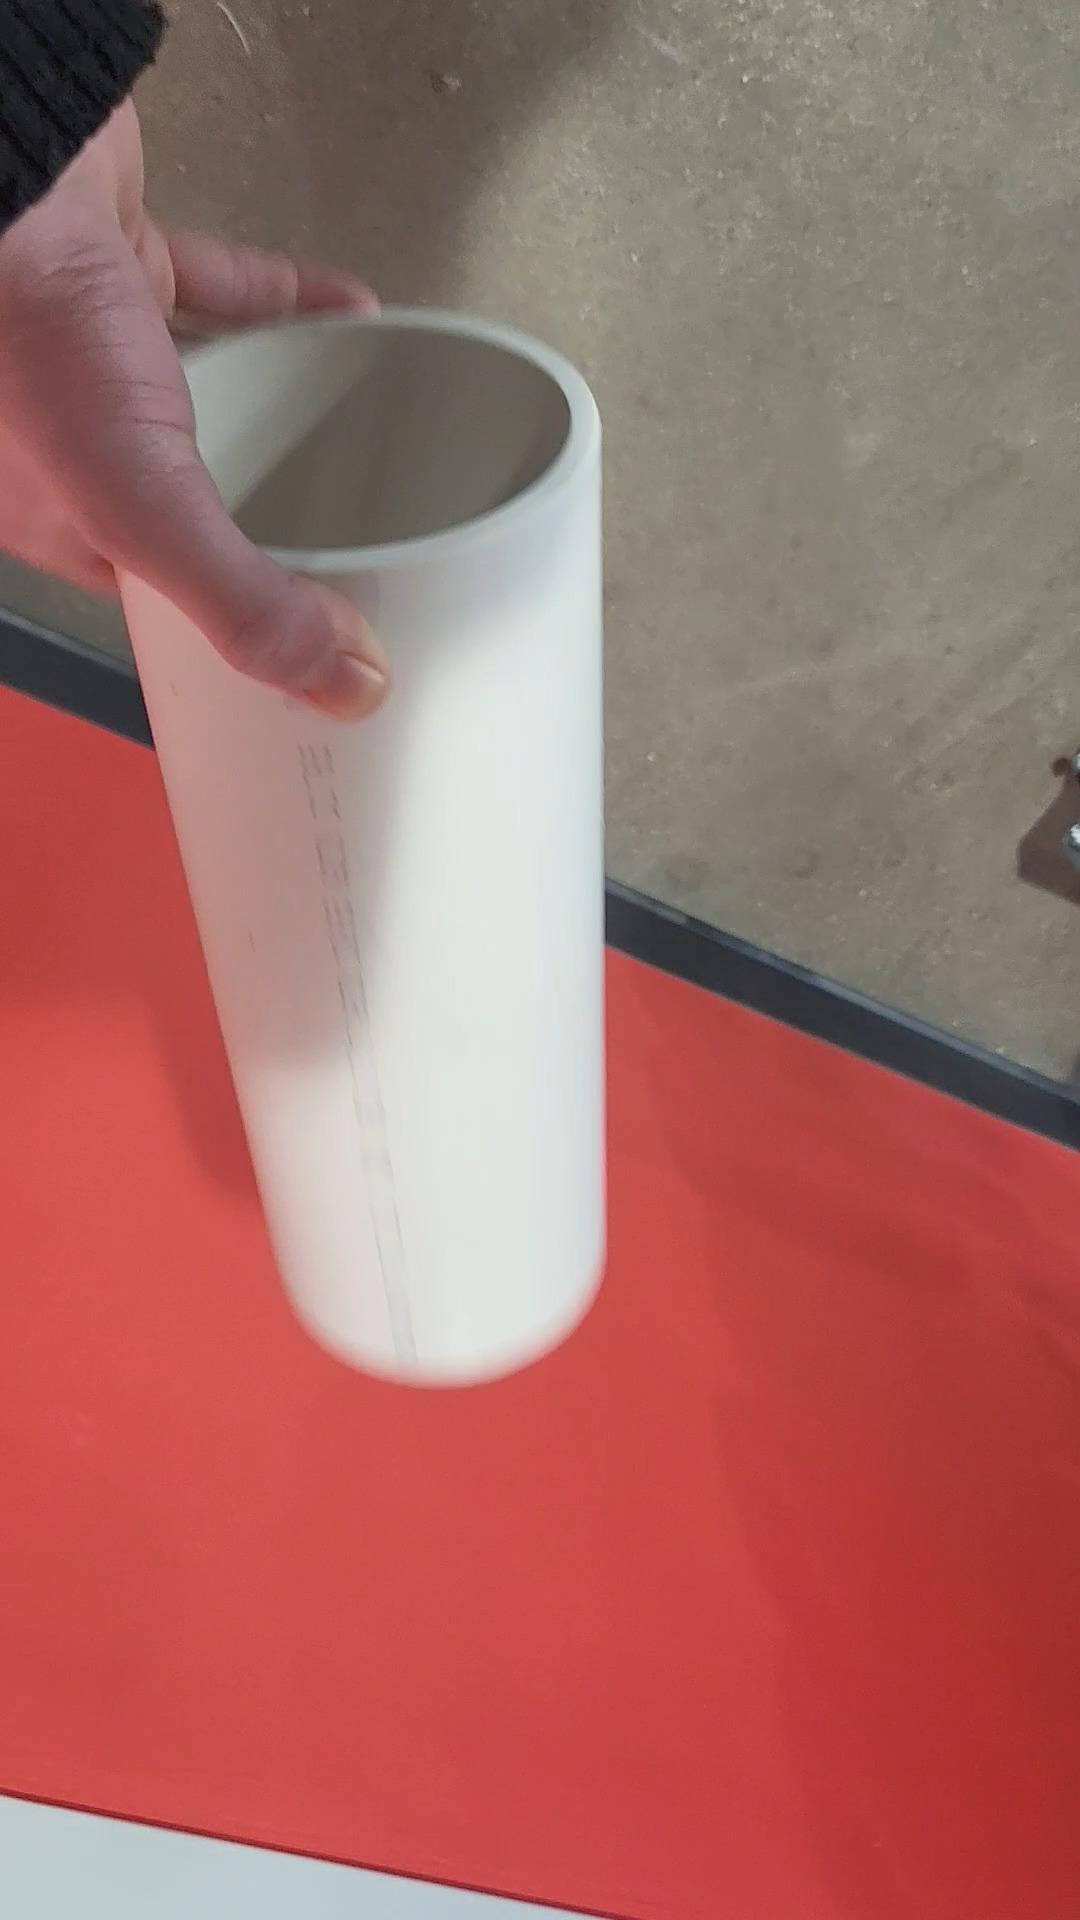coral: (100, 302, 612, 1390)
